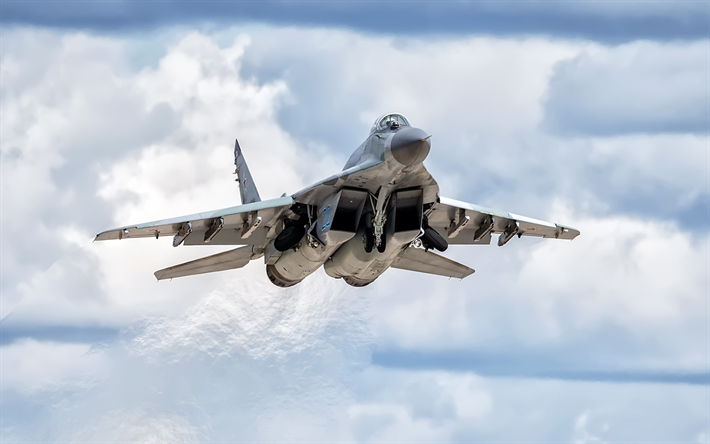Mig-29: (91, 73, 645, 332)
